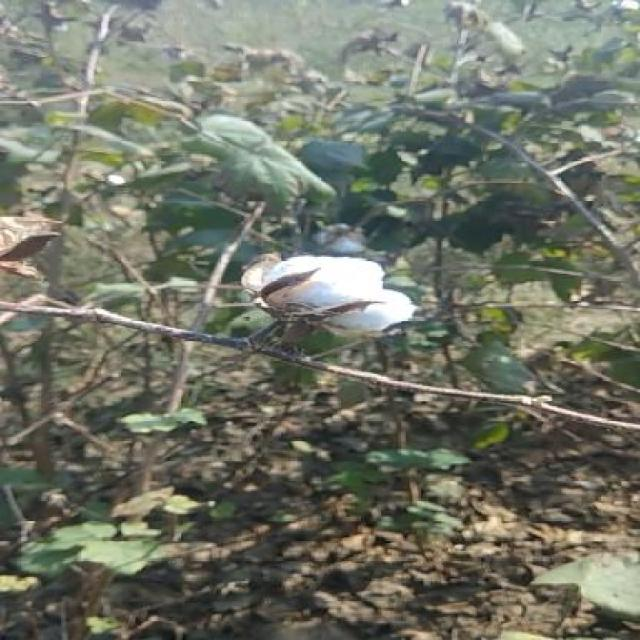cotton_ready: (186, 242, 465, 384)
